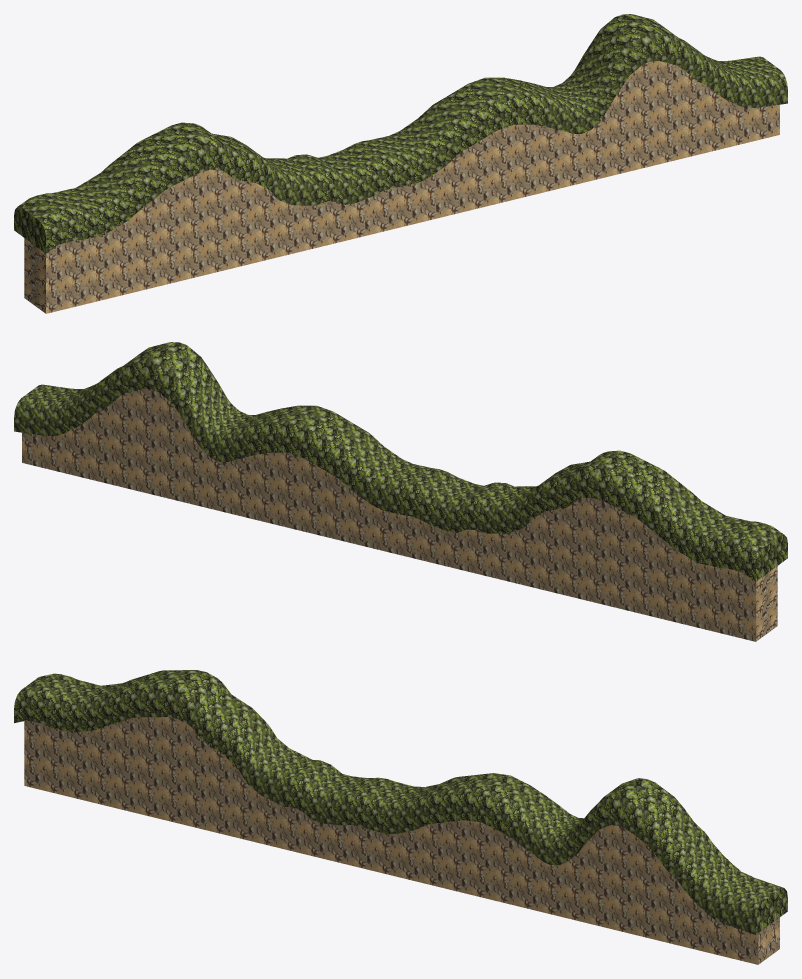
File: StageTerrainTest.fbx
3 views of the same model, one above another, from view 1: azimuth 30°, elevation 25°; view 2: azimuth 150°, elevation 25°; view 3: azimuth 330°, elevation 25° (orthographic).
Visible parts, largest first — view 1: StageTerrainTest; view 2: StageTerrainTest; view 3: StageTerrainTest.
Part boxes in pixels (<box>): StageTerrainTest: <box>14,14,787,313</box>; StageTerrainTest: <box>14,342,787,641</box>; StageTerrainTest: <box>14,670,787,964</box>.
Bounding box in the file's own units: 4478 × 796 × 336.
2 materials, 2 textured.
